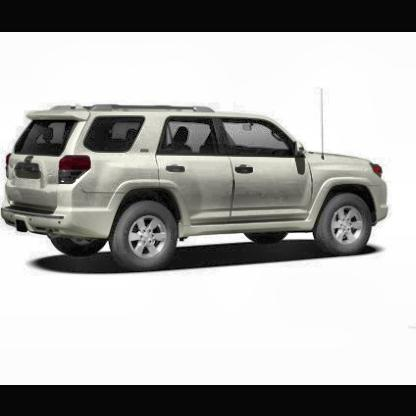Toyota 4Runner SUV 2012: (2, 102, 393, 273)
